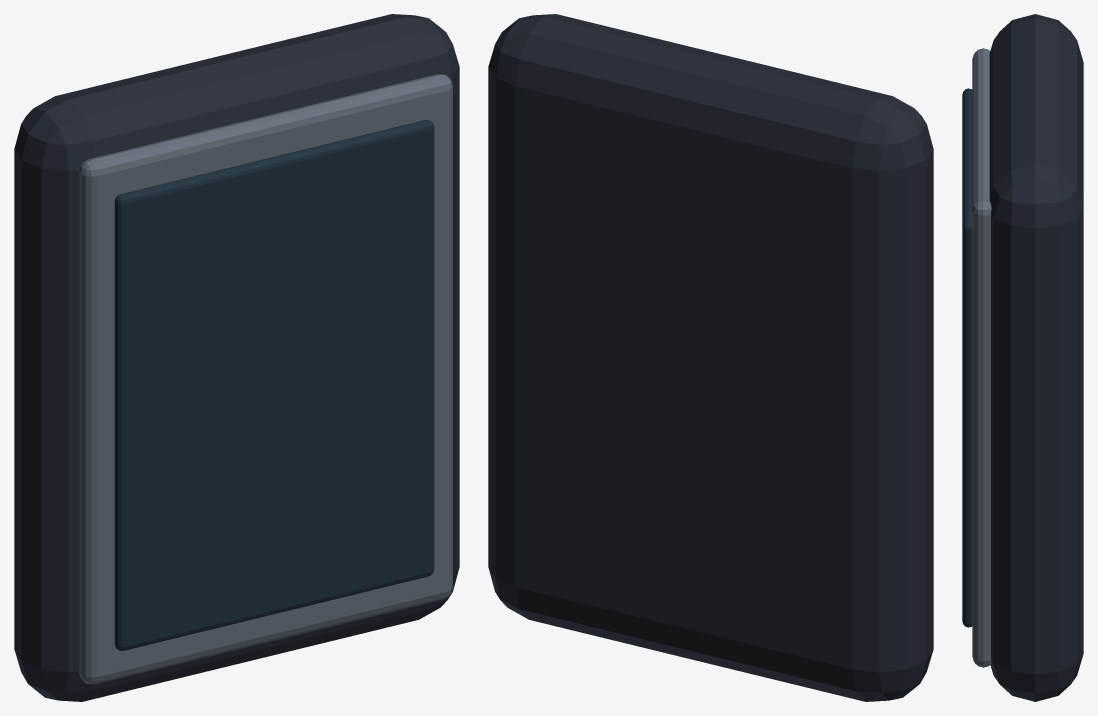
File: ChibiWorker_PDA.fbx
3 views of the same model, side by side, from view 1: azimuth 30°, elevation 25°; view 2: azimuth 150°, elevation 25°; view 3: azimuth 270°, elevation 25° (orthographic). The views are drawn at different scales.
Parts seen in each view (by area): view 1: ChibiWorker_PDA; view 2: ChibiWorker_PDA; view 3: ChibiWorker_PDA.
Part boxes in pixels (x1,y1,x2,y2): ChibiWorker_PDA: [14, 14, 459, 701]; ChibiWorker_PDA: [488, 14, 933, 701]; ChibiWorker_PDA: [962, 14, 1083, 701].
Size of the model in its own units: 0.179 by 0.238 by 0.049.
